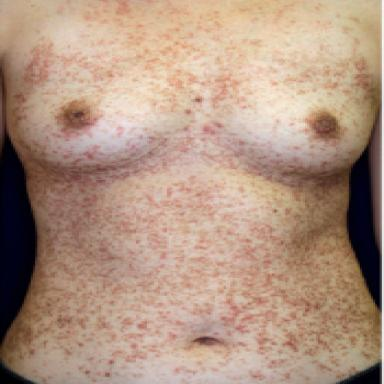Darier_s-Disease: (0, 0, 382, 384)
